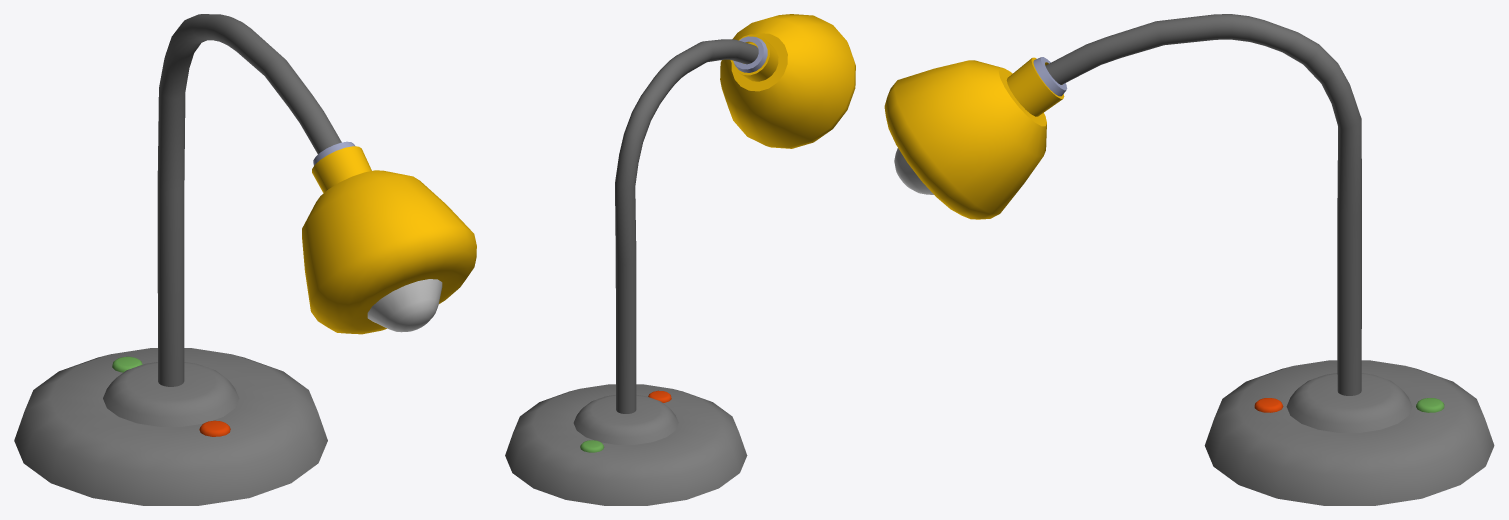
Rendered from Study Light_1.fbx.
3 views of the same model, side by side, from view 1: azimuth 30°, elevation 25°; view 2: azimuth 150°, elevation 25°; view 3: azimuth 270°, elevation 25° (orthographic). The views are drawn at different scales.
Parts seen in each view (by area): view 1: Study Light_1; view 2: Study Light_1; view 3: Study Light_1.
Part boxes in pixels (<box>): Study Light_1: <box>14,14,476,505</box>; Study Light_1: <box>505,14,855,505</box>; Study Light_1: <box>884,14,1494,505</box>.
Size of the model in its own units: 0.2543 by 0.4232 by 0.5433.
